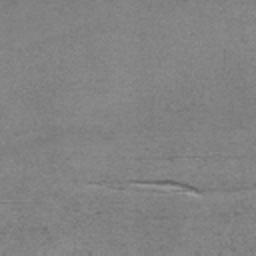Finishing roll printing: (89, 180, 201, 197), (136, 155, 246, 162)
